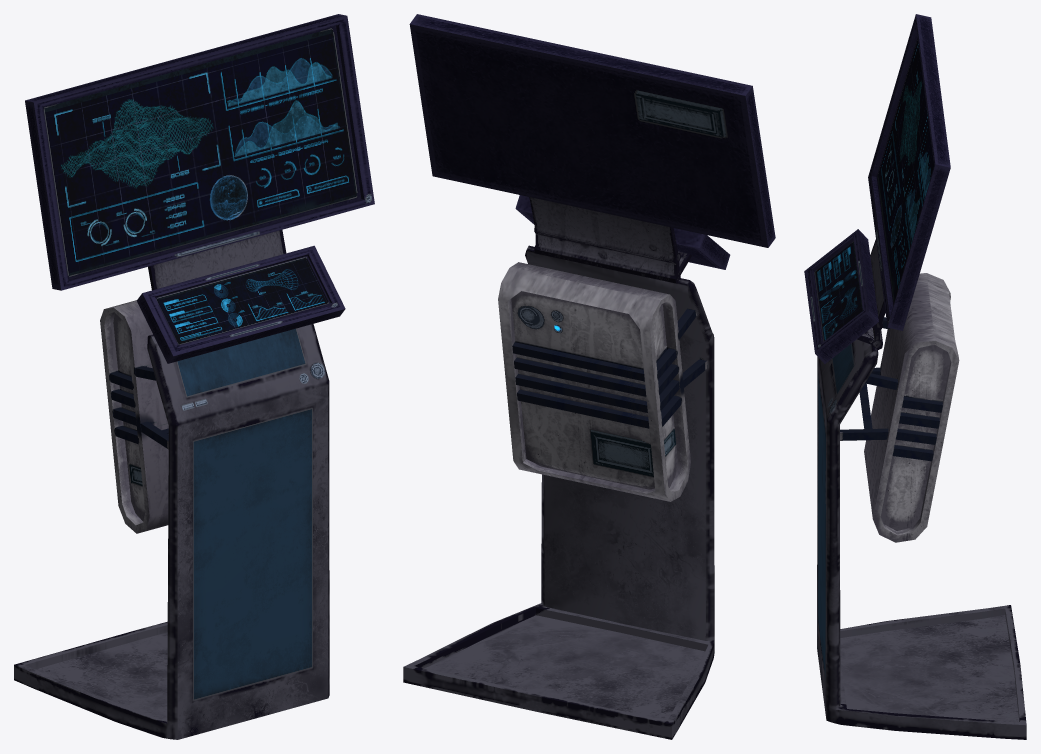
Rendered from Terminal_LP.fbx.
3 renders of one model, left to right at view 1: azimuth 30°, elevation 25°; view 2: azimuth 150°, elevation 25°; view 3: azimuth 270°, elevation 25°, orthographic. The views are drawn at different scales.
Parts seen in each view (by area): view 1: terminal_low; view 2: terminal_low; view 3: terminal_low.
Part boxes in pixels (<box>): terminal_low: <box>14,14,374,739</box>; terminal_low: <box>403,14,775,739</box>; terminal_low: <box>804,14,1026,739</box>.
Size of the model in its own units: 34.77 by 63.3 by 21.53.
